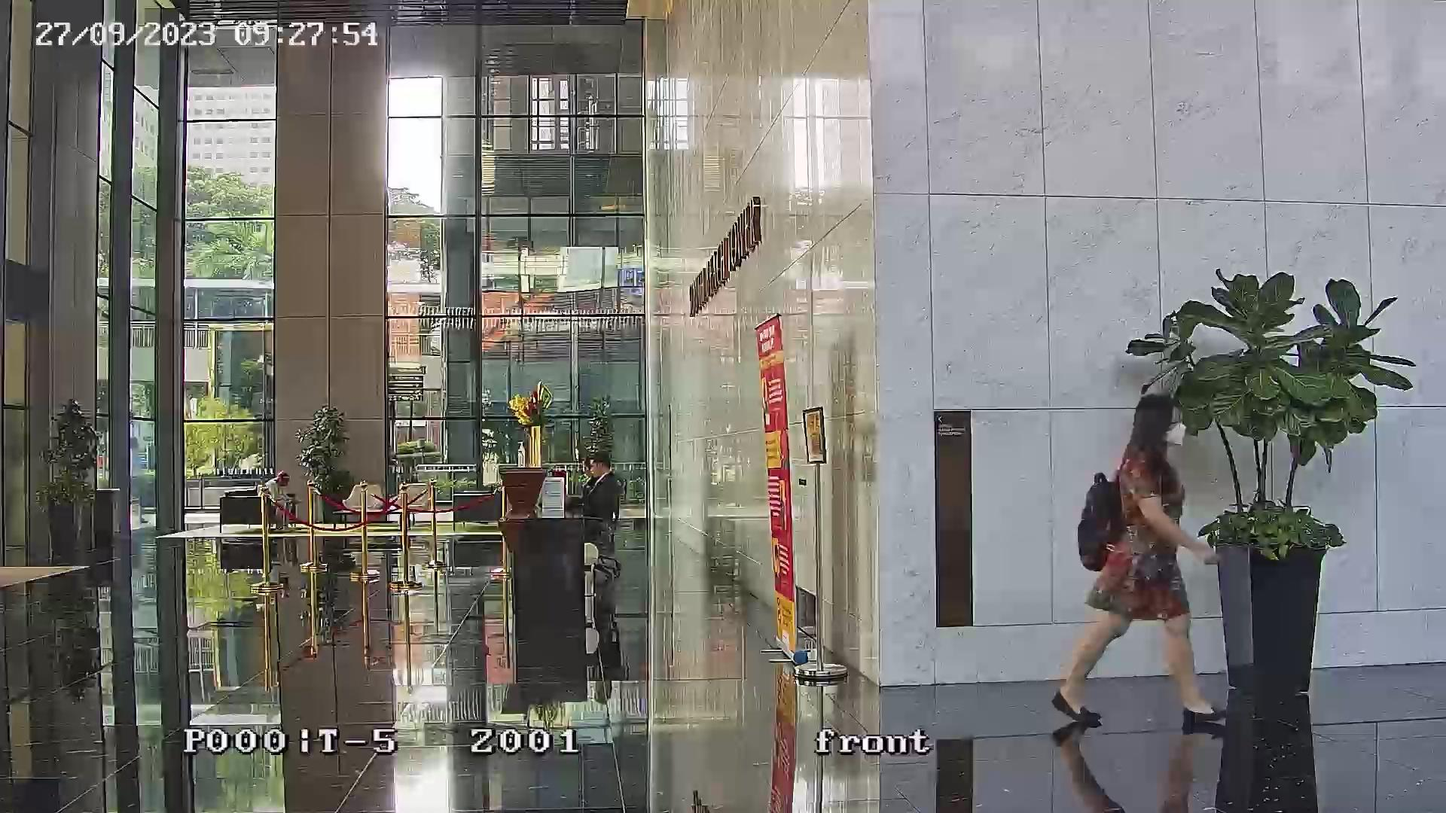person: (1050, 389, 1226, 734), (566, 453, 616, 535), (259, 469, 295, 533)
